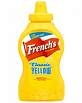grozi_40: (17, 0, 65, 101)
